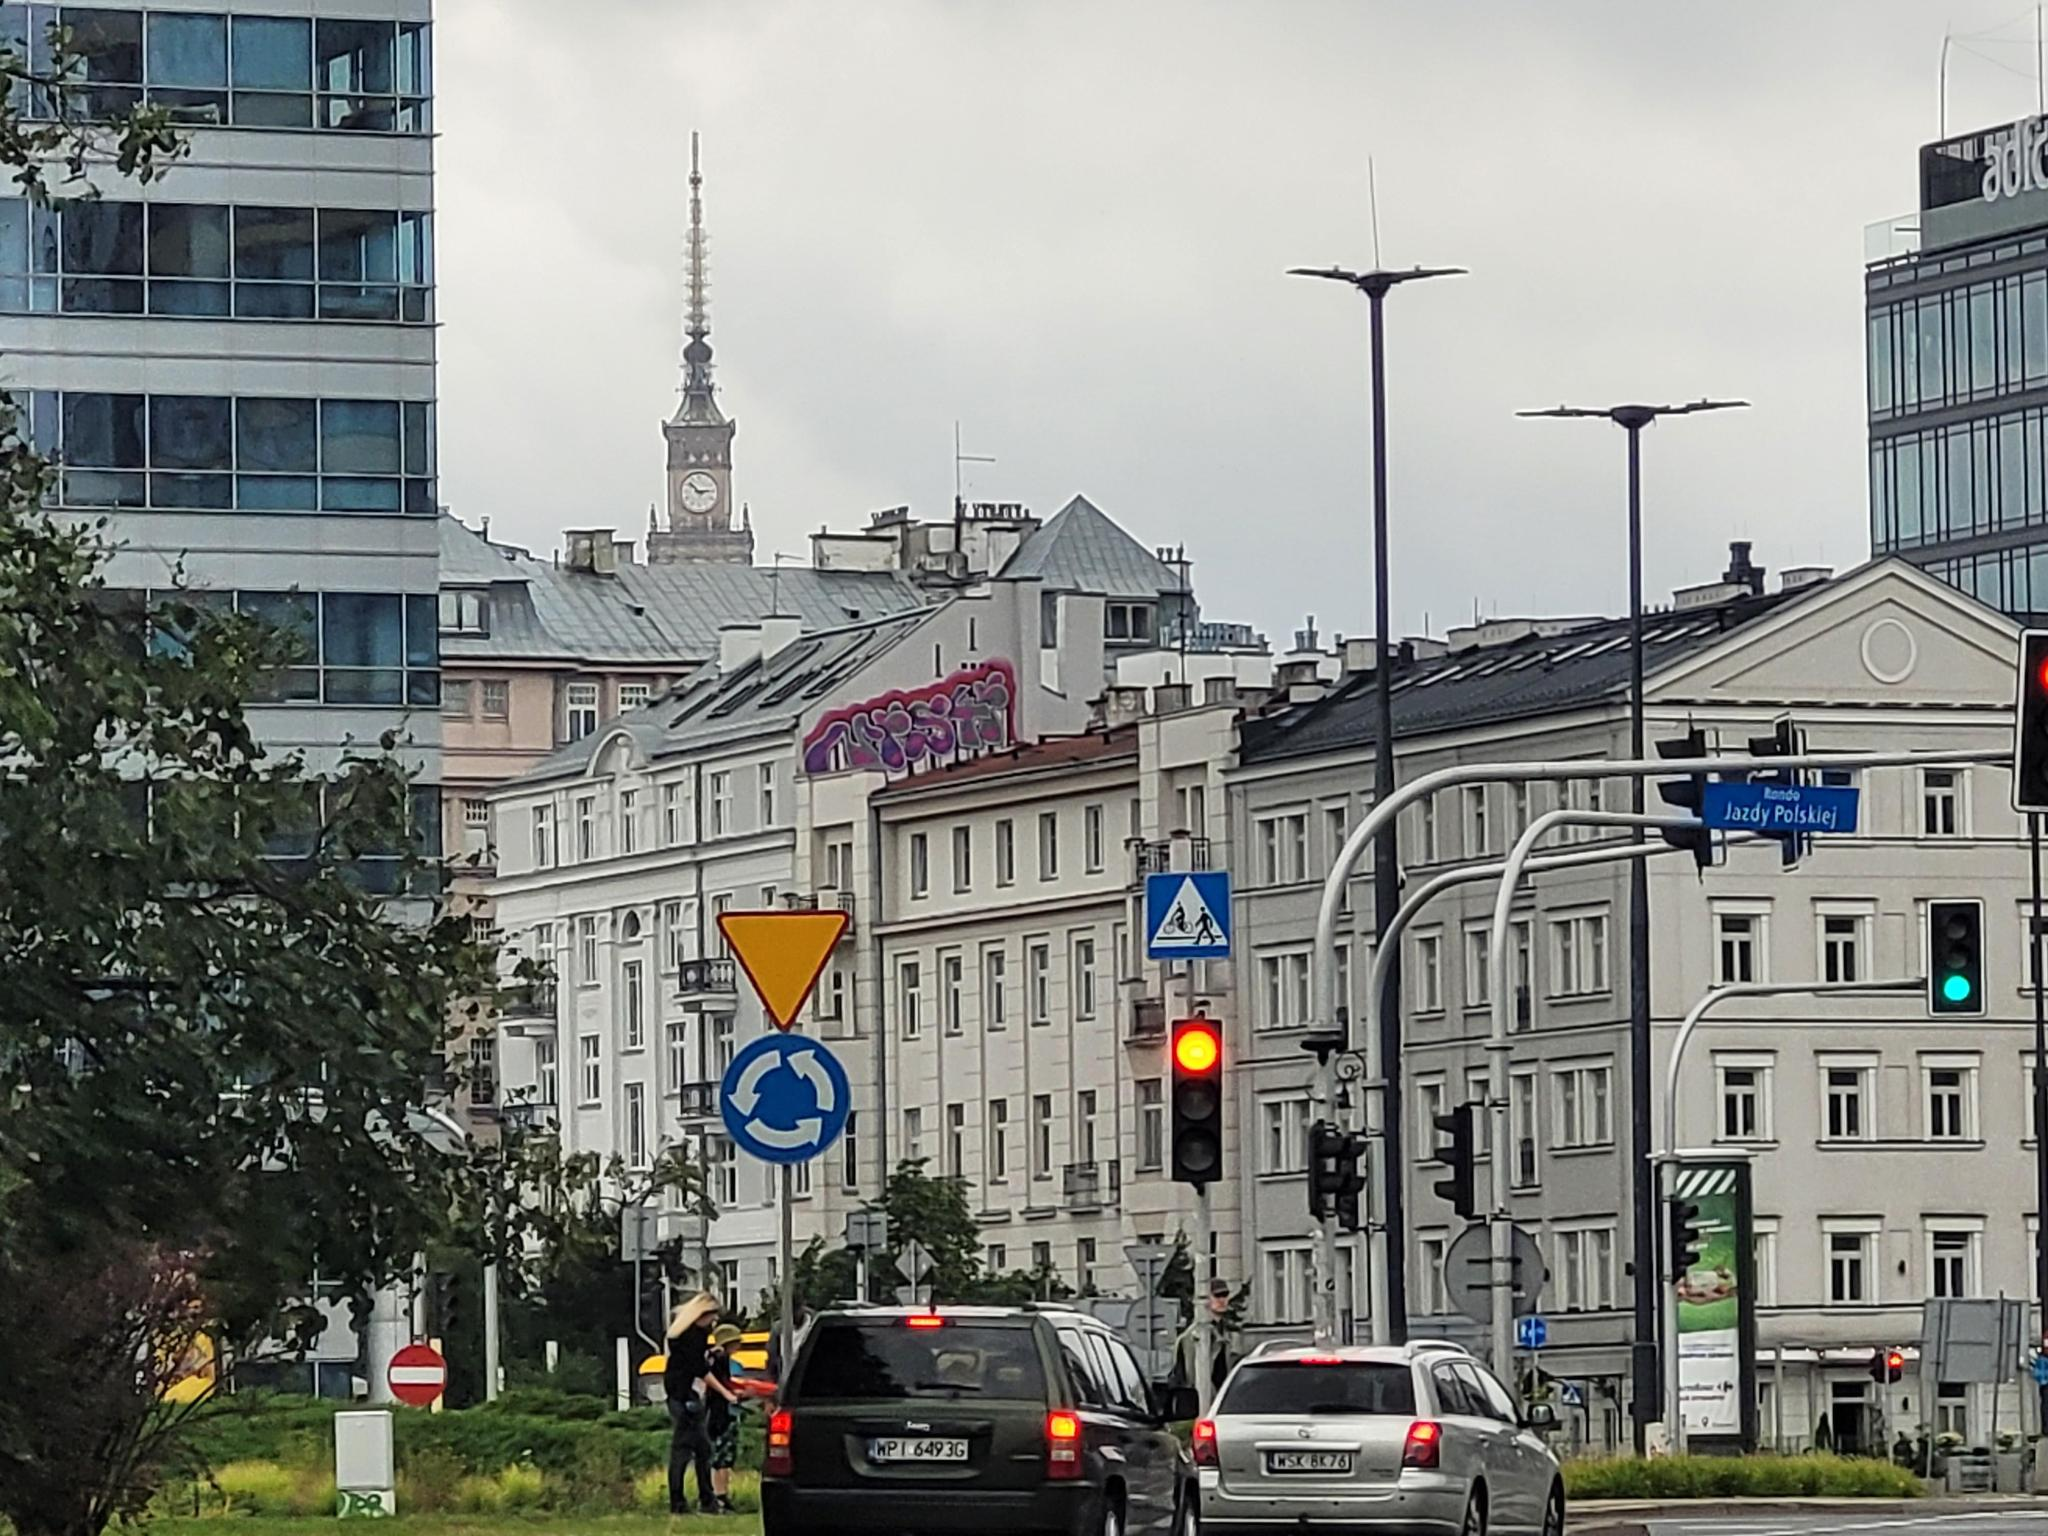information: (1147, 873, 1230, 958)
mandatory: (718, 1033, 853, 1165), (1519, 1318, 1550, 1347)
prohibitory: (387, 1344, 447, 1405)
warning: (716, 912, 851, 1033)
